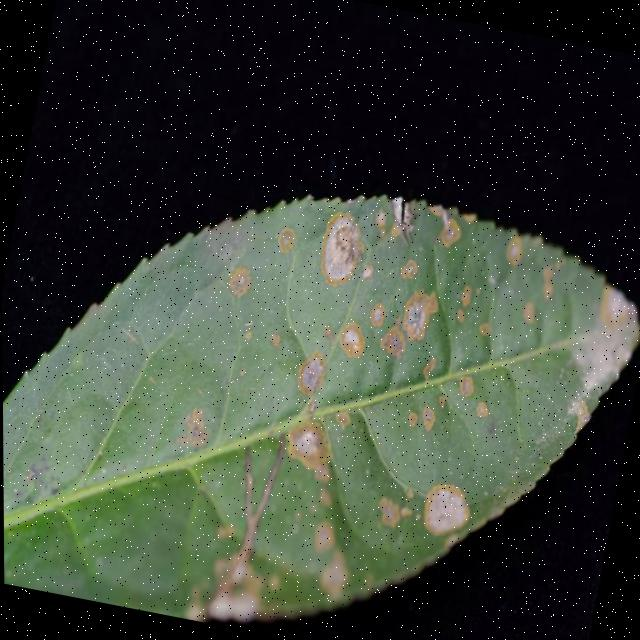Tea algae leaf spot: (166, 162, 578, 584)
